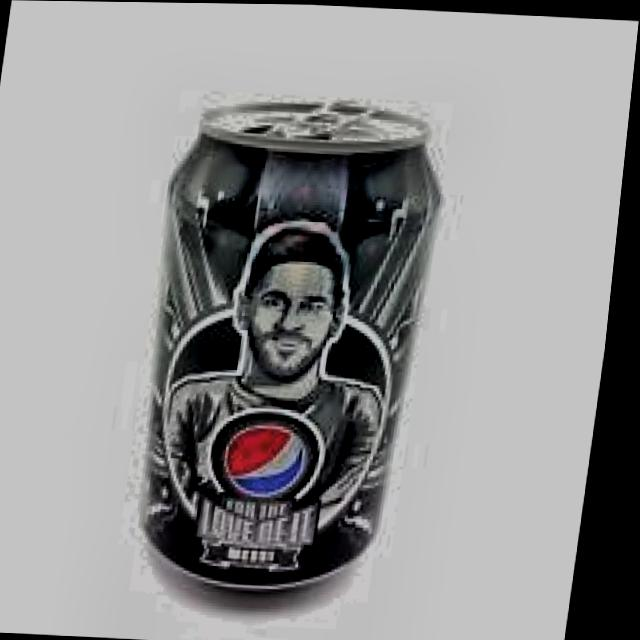Cans: (118, 74, 478, 604)
